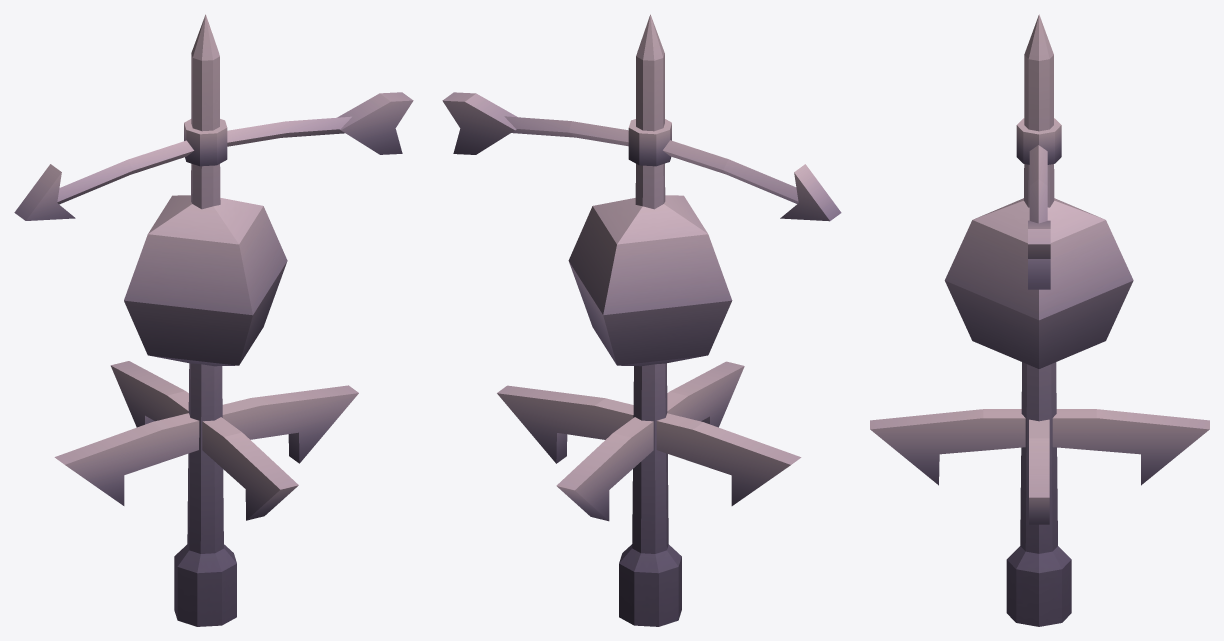
File: Wind_Pointer.fbx
3 renders of one model, left to right at view 1: azimuth 30°, elevation 25°; view 2: azimuth 150°, elevation 25°; view 3: azimuth 270°, elevation 25°, orthographic.
Parts seen in each view (by area): view 1: Wind Vane; view 2: Wind Vane; view 3: Wind Vane.
Boxes of the visible parts, bbox=[...] form: Wind Vane: bbox=[14, 14, 413, 626]; Wind Vane: bbox=[442, 14, 841, 626]; Wind Vane: bbox=[870, 14, 1209, 626].
Size of the model in its own units: 120 by 177 by 90.82.
